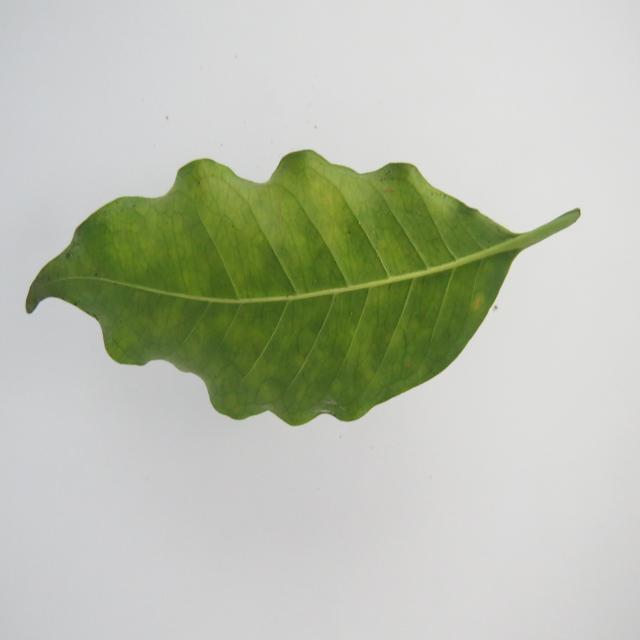DeficienciaNutricional-Calcio: (26, 150, 580, 425)
